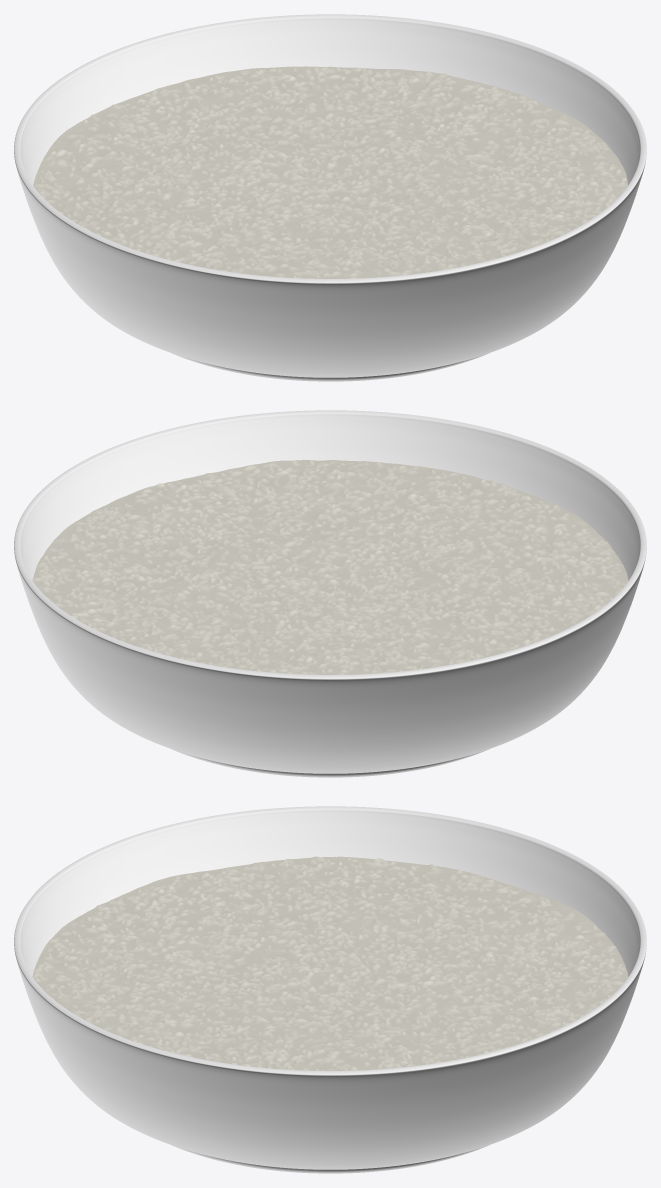
Rendered from final_rice_pudding_12MB.glb.
The picture shows the model from 3 angles, top to bottom: view 1: azimuth 30°, elevation 25°; view 2: azimuth 150°, elevation 25°; view 3: azimuth 270°, elevation 25°; orthographic projection.
Visible parts, largest first — view 1: Pudding | 4600 integrated rice grains and closed cream volum, Porcelain bowl | closed inner outer base; view 2: Pudding | 4600 integrated rice grains and closed cream volum, Porcelain bowl | closed inner outer base; view 3: Pudding | 4600 integrated rice grains and closed cream volum, Porcelain bowl | closed inner outer base.
Part boxes in pixels (x1,y1,x2,y2): Pudding | 4600 integrated rice grains and closed cream volum: [33, 66, 627, 278]; Porcelain bowl | closed inner outer base: [14, 14, 646, 381]; Pudding | 4600 integrated rice grains and closed cream volum: [32, 460, 628, 674]; Porcelain bowl | closed inner outer base: [14, 410, 646, 777]; Pudding | 4600 integrated rice grains and closed cream volum: [32, 856, 628, 1070]; Porcelain bowl | closed inner outer base: [14, 806, 646, 1173].
Size of the model in its own units: 0.2101 by 0.052 by 0.2101.
Materials: 2 (1 with a texture image).
